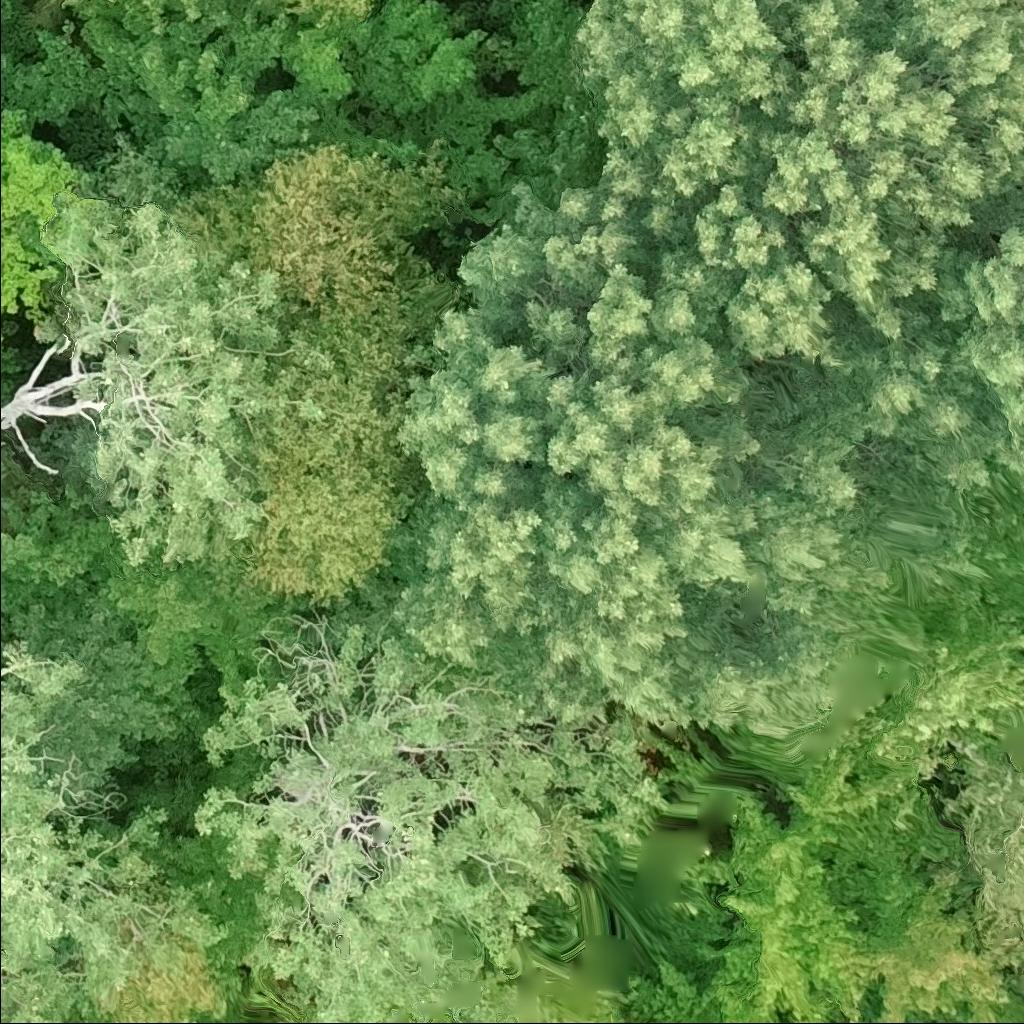crown: (377, 183, 894, 732), (194, 604, 668, 1023), (570, 0, 1023, 373), (42, 195, 334, 570), (0, 637, 235, 1000), (228, 261, 471, 606), (160, 137, 463, 324), (96, 530, 308, 701), (0, 109, 88, 359), (0, 490, 112, 614), (0, 340, 107, 434), (60, 0, 244, 36), (0, 964, 82, 1023), (276, 0, 378, 29), (0, 445, 13, 494), (0, 45, 10, 74)
